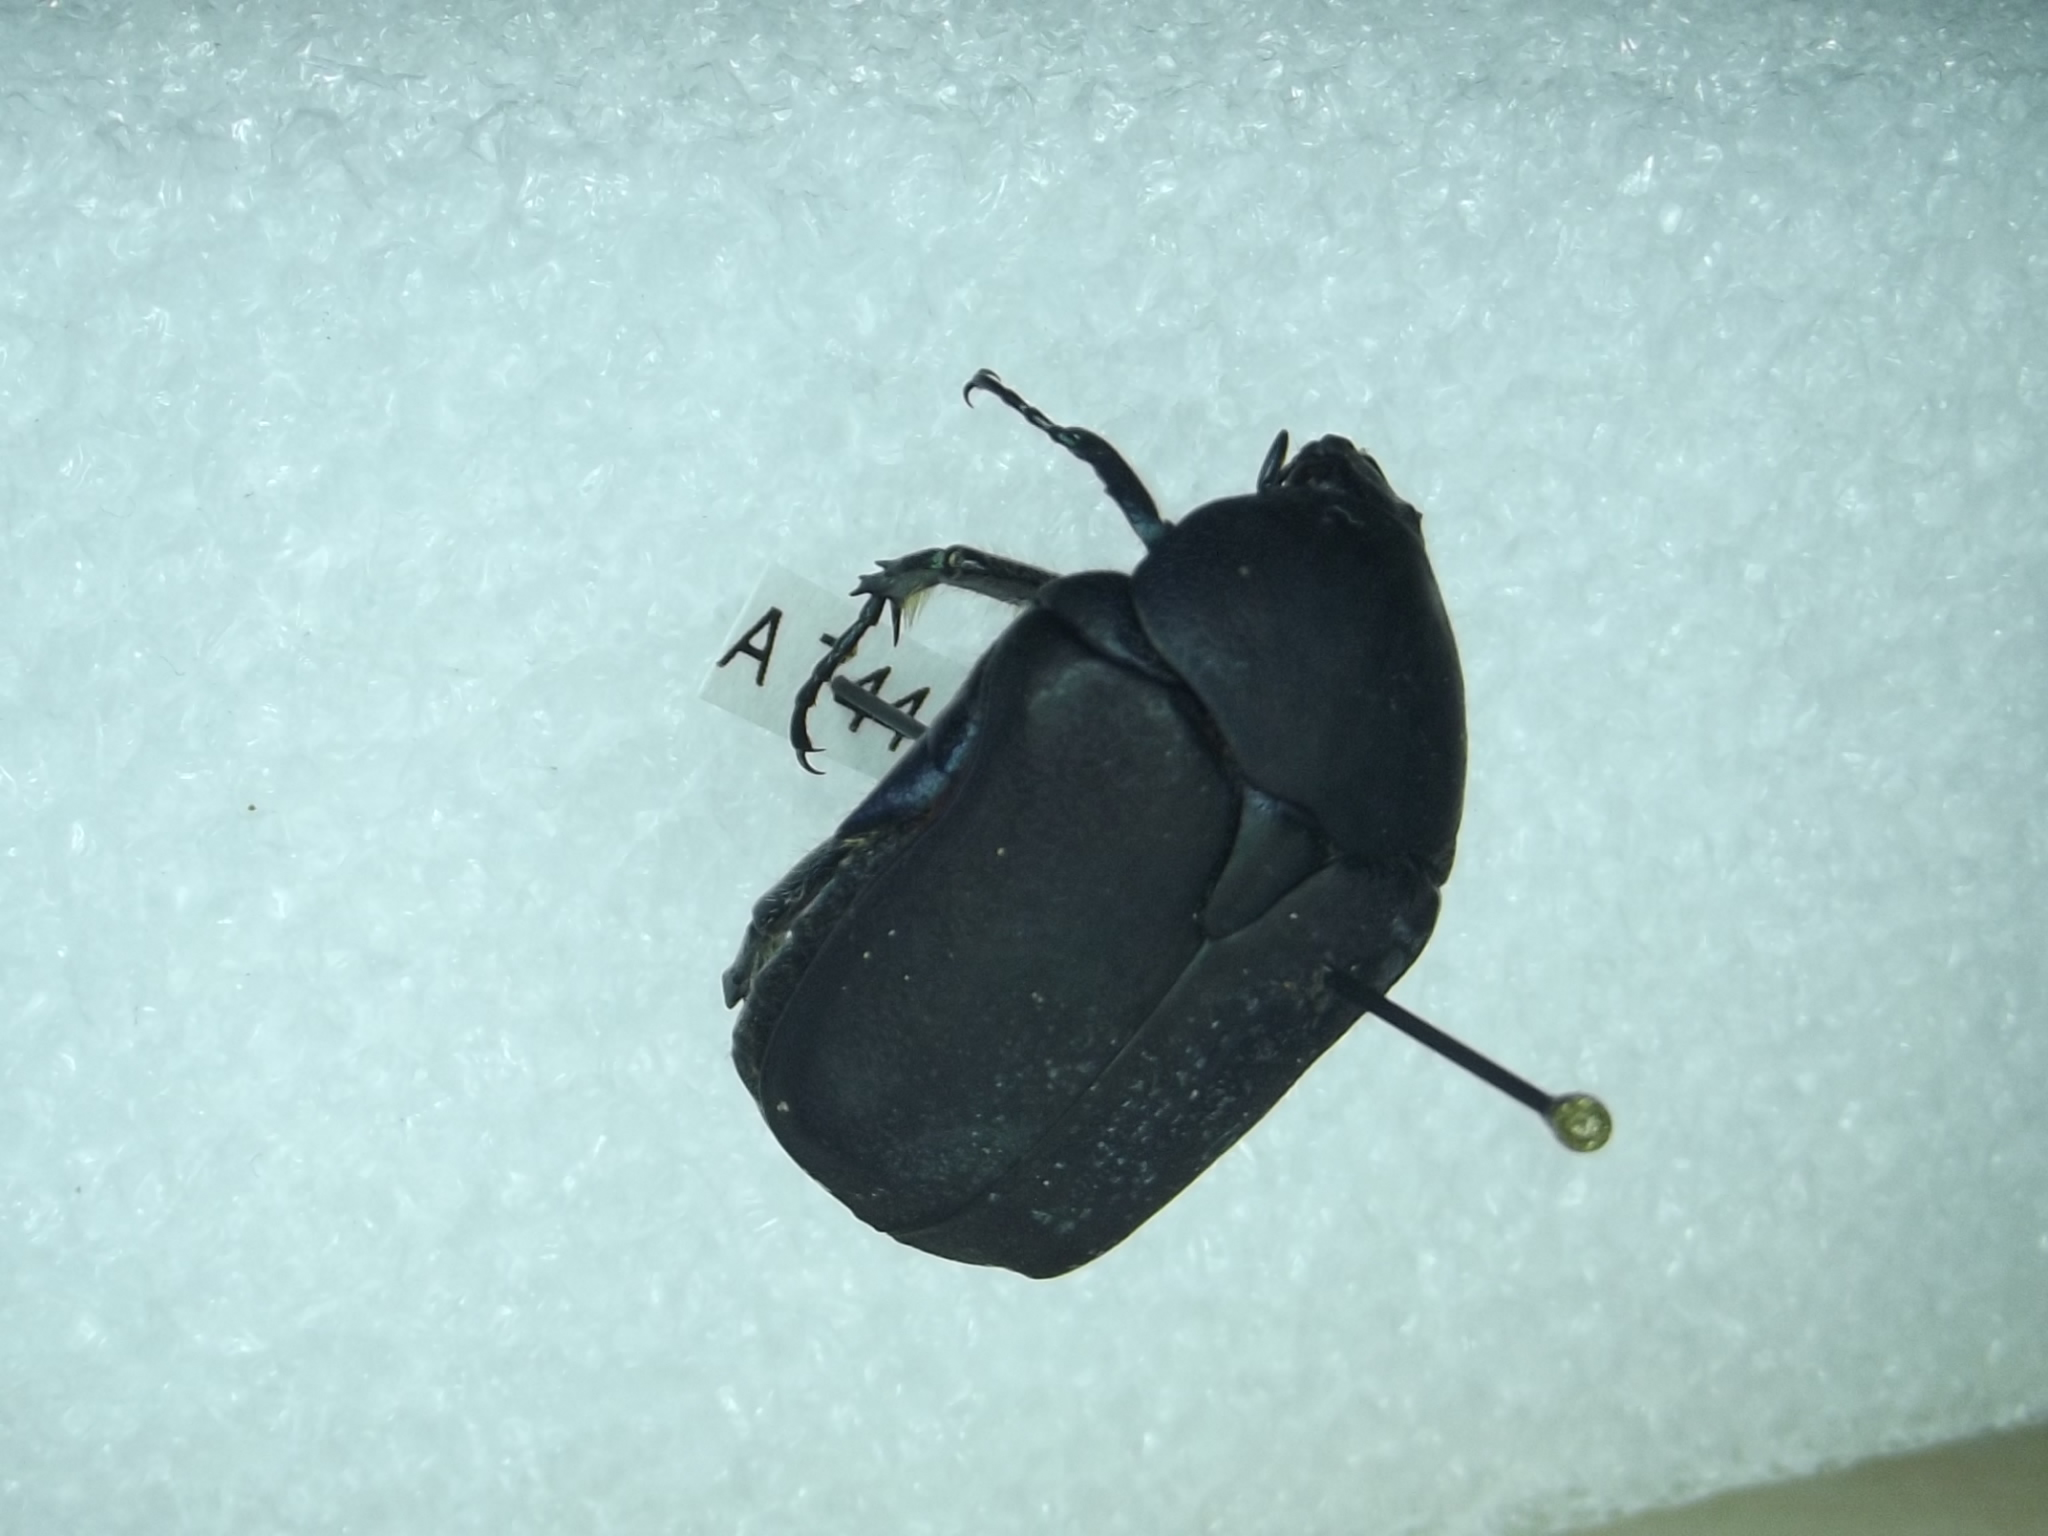Protaetia_afflicta: (713, 315, 1471, 1283)
